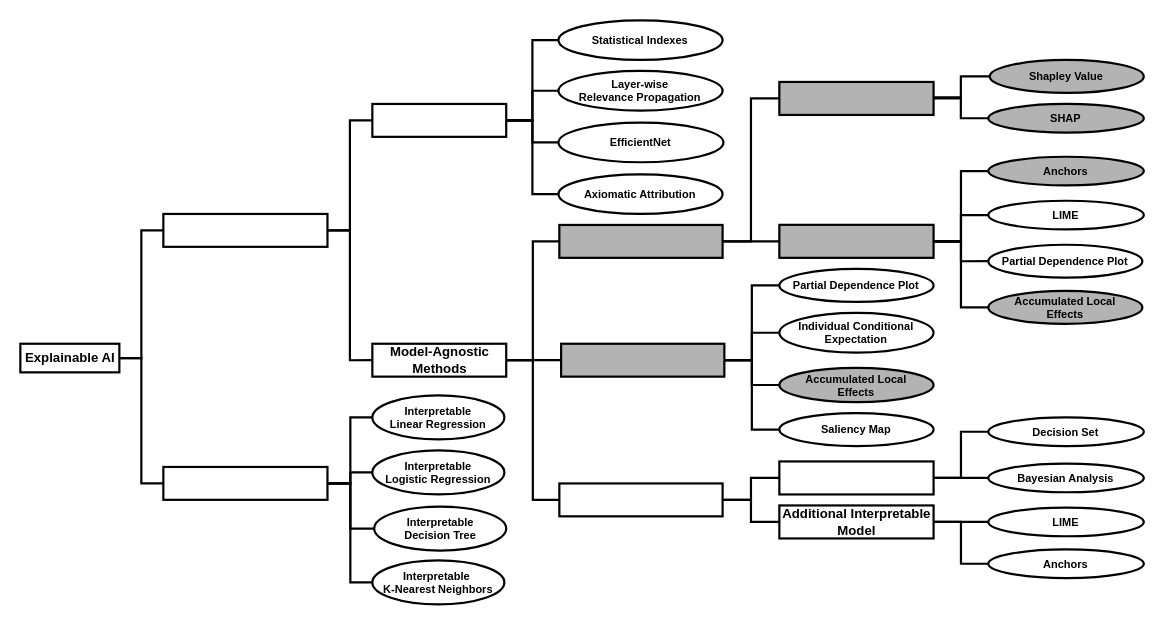
The diagram is 1164 pixels wide and 624 high, and some of its shapes have lost their labels. The box of each missing label's shape, as (x1, y1, x2, y2) in pixels:
Build Interpretable Model: (162, 465, 328, 500)
Explain by Feature Importance: (558, 223, 723, 258)
Explain by Simplification: (558, 482, 723, 517)
Explain by Visualization: (559, 342, 725, 377)
Feature Masking: (778, 80, 934, 116)
Feature Mutation: (778, 223, 934, 258)
Model-Specific Methods: (371, 102, 507, 137)
Post-Hoc Explanation: (162, 212, 328, 247)
Rule-based Learner: (778, 460, 934, 495)
